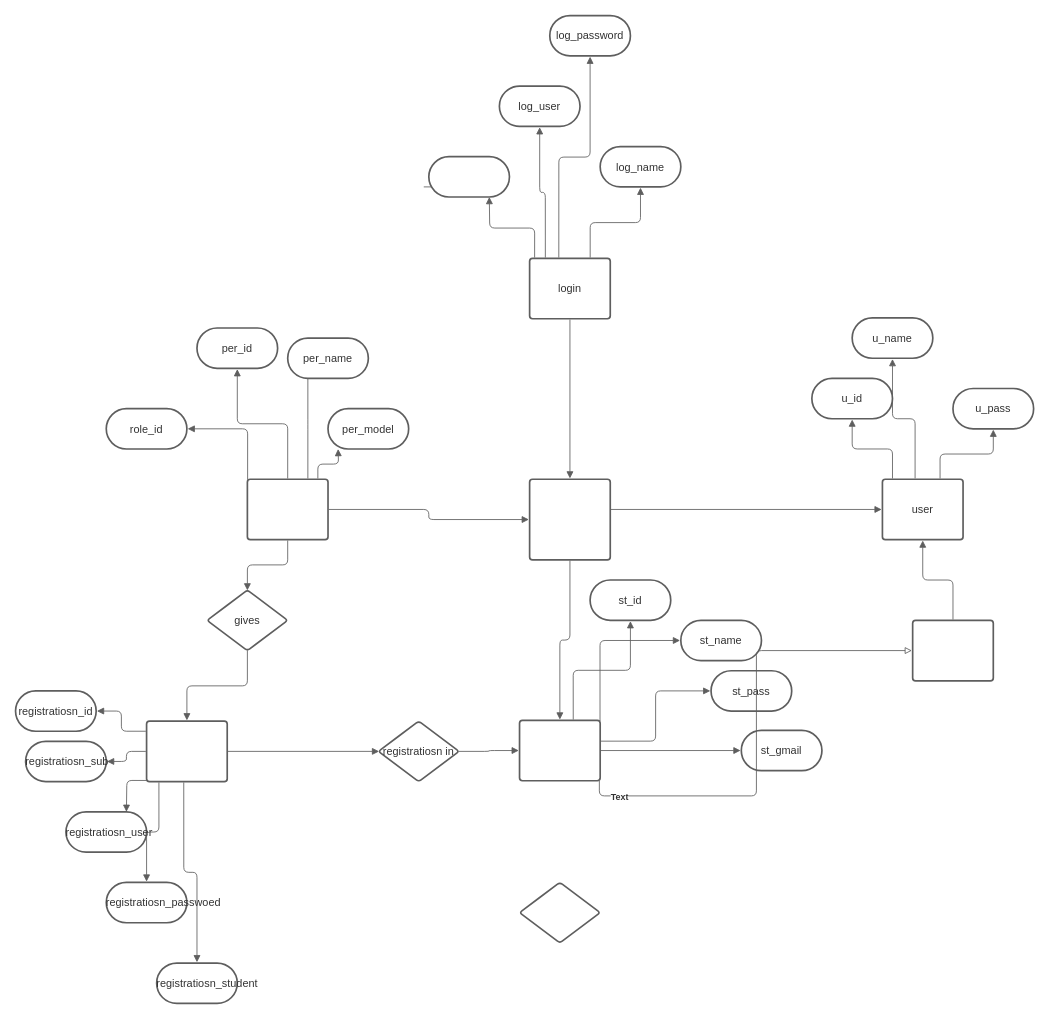
This 1048x1018 diagram has some shape labels left out. The shapes that lost their labels are listed below. From the top down, each one's box as (x1, y1, x2, y2) in pixels, then its label:
(428, 155, 510, 197): log_id
(246, 478, 328, 540): permission
(528, 478, 611, 560): has
(911, 619, 994, 681): give
(145, 720, 228, 782): registratiosn
(518, 719, 601, 781): student
(518, 881, 601, 943): Decision
